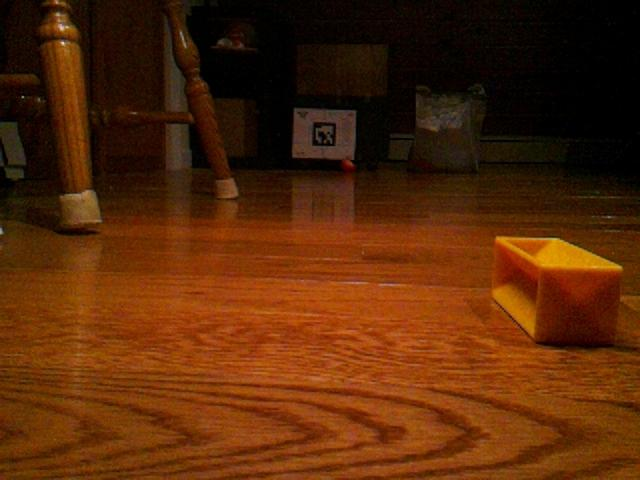yellow: (490, 233, 624, 347)
